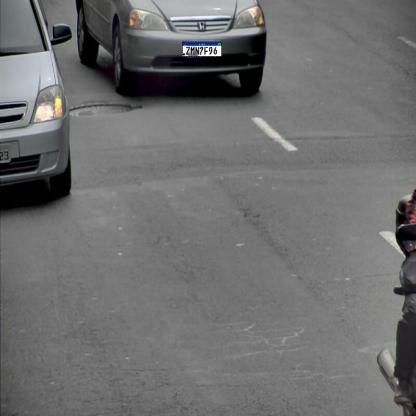PlacaM: (182, 41, 222, 57)
